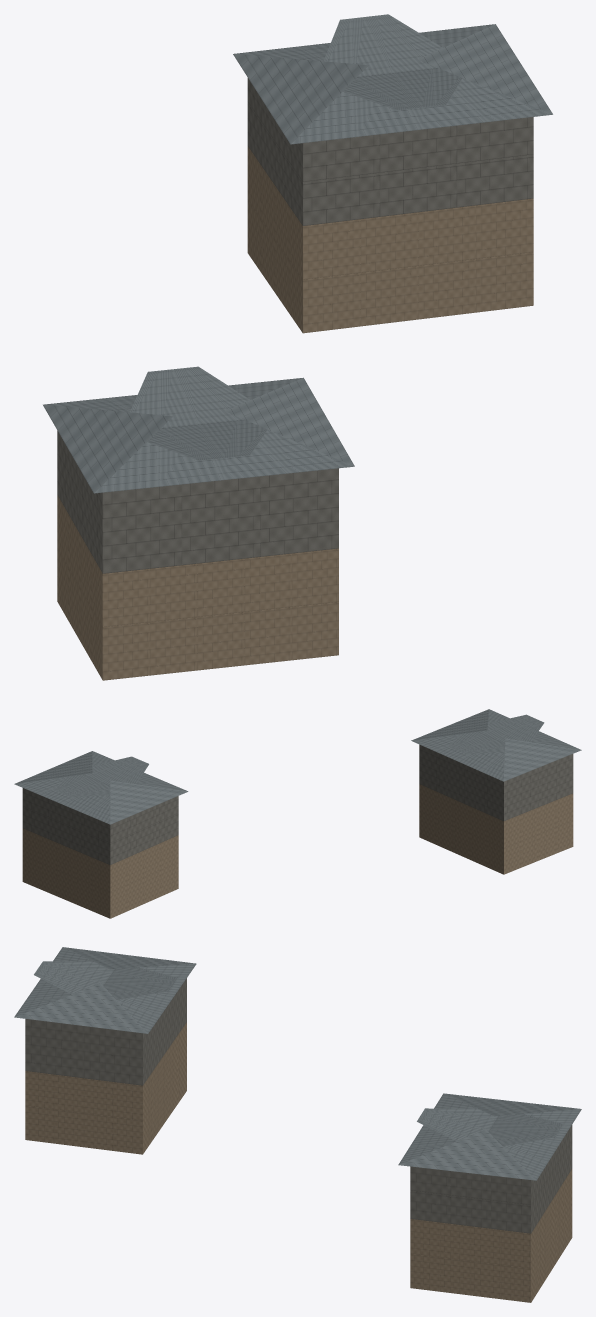
The model's file is bld_c8_8_499.gltf.
The picture shows the model from 3 angles, top to bottom: view 1: azimuth 30°, elevation 25°; view 2: azimuth 150°, elevation 25°; view 3: azimuth 270°, elevation 25°; orthographic projection. The views are drawn at different scales.
Visible parts, largest first — view 1: bld_c8_8_499; view 2: bld_c8_8_499; view 3: bld_c8_8_499.
Boxes of the visible parts, bbox=[...] form: bld_c8_8_499: bbox=[43, 14, 552, 680]; bld_c8_8_499: bbox=[14, 709, 581, 918]; bld_c8_8_499: bbox=[14, 947, 581, 1302].
Size of the model in its own units: 36.63 by 10.4 by 36.3.
3 materials, 3 textured.
